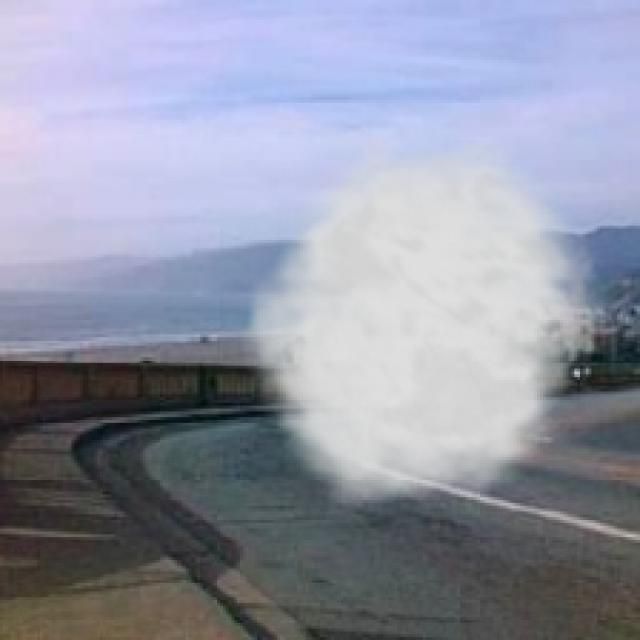Smoke: (234, 131, 617, 523)
